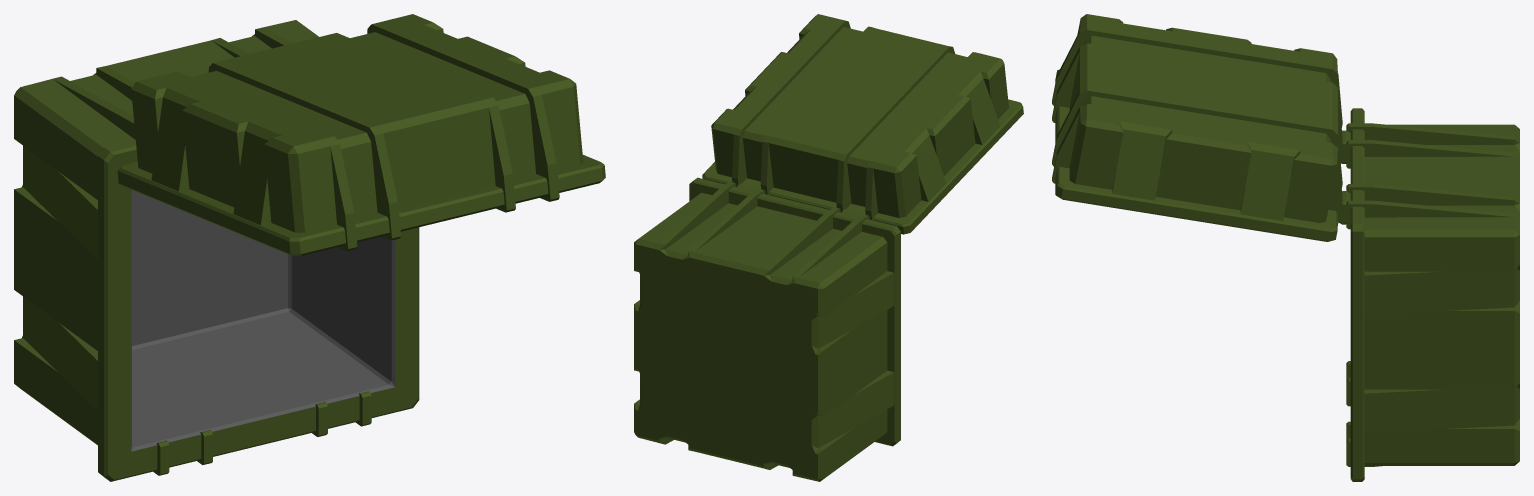
The model's file is AttachmentBoxBarrel.glb.
3 renders of one model, left to right at view 1: azimuth 30°, elevation 25°; view 2: azimuth 150°, elevation 25°; view 3: azimuth 270°, elevation 25°, orthographic. The views are drawn at different scales.
Parts seen in each view (by area): view 1: AttachmentBoxBarrel; view 2: AttachmentBoxBarrel; view 3: AttachmentBoxBarrel.
Part boxes in pixels (x1,y1,x2,y2): AttachmentBoxBarrel: [14, 14, 605, 481]; AttachmentBoxBarrel: [634, 14, 1023, 481]; AttachmentBoxBarrel: [1052, 14, 1519, 481].
Bounding box in the file's own units: 0.656 × 0.9145 × 1.08.
Materials: 1 (1 with a texture image).
